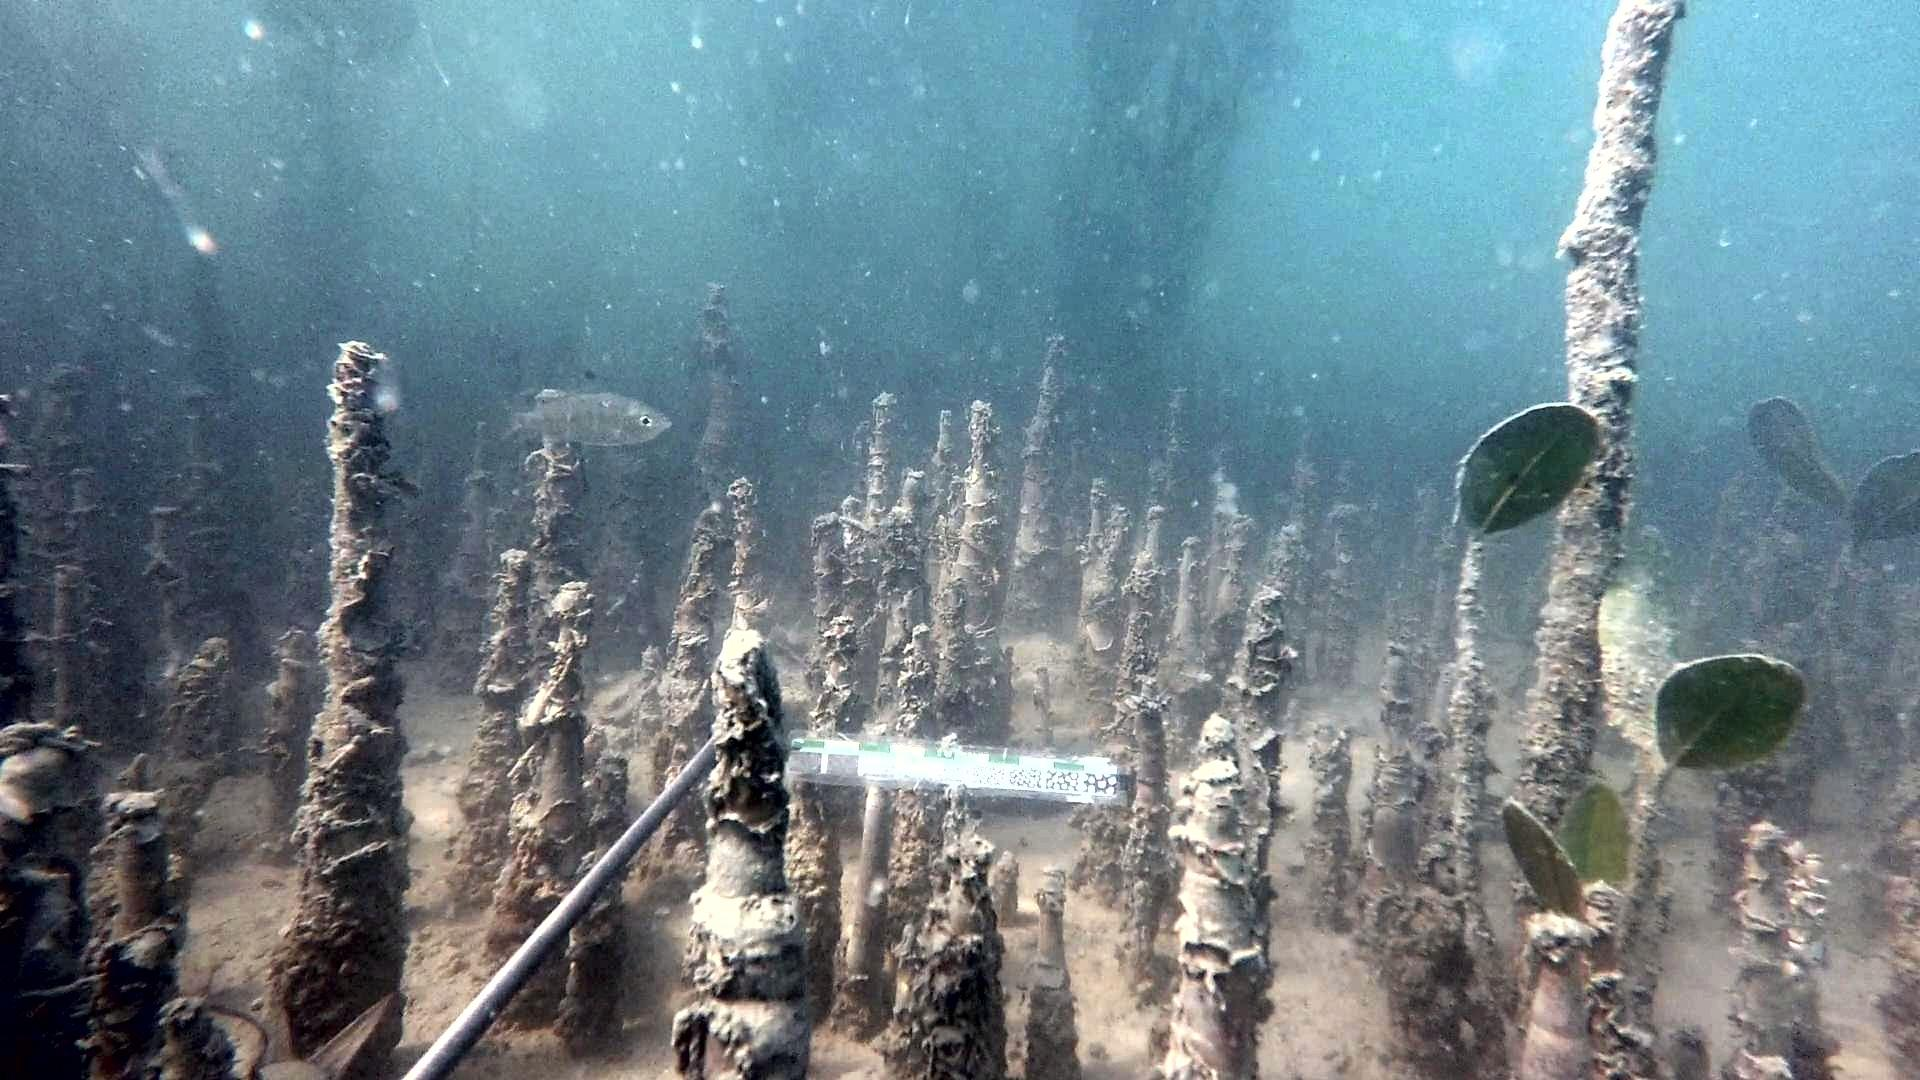gerres: (493, 368, 676, 450)
